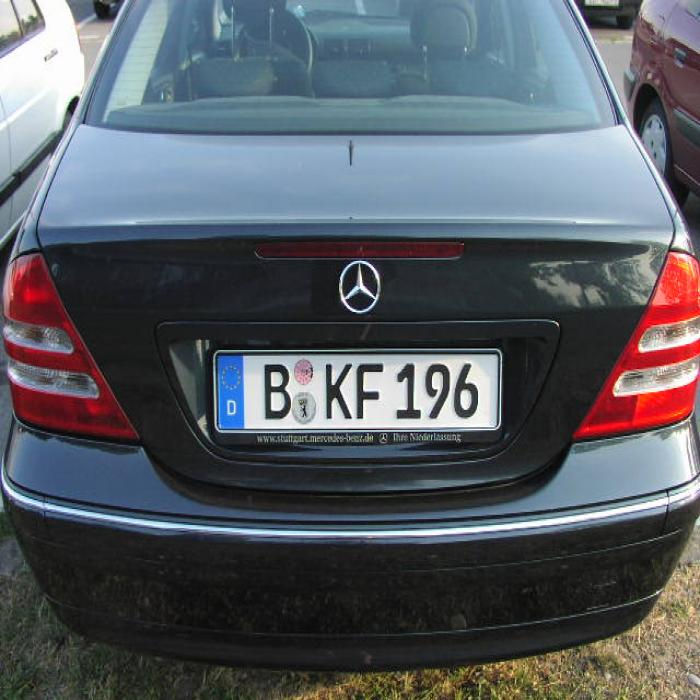number_plate: (216, 352, 496, 427)
